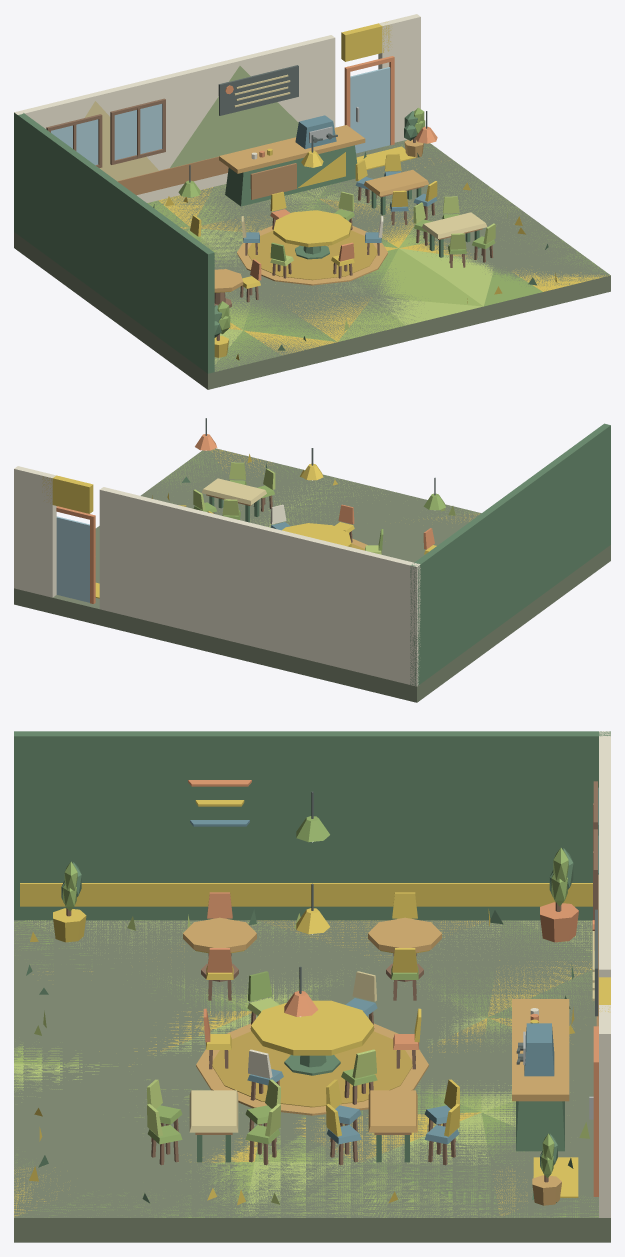
The model's file is echo_world_cafe_reference-lowpoly-v2.glb.
3 views of the same model, one above another, from view 1: azimuth 30°, elevation 25°; view 2: azimuth 150°, elevation 25°; view 3: azimuth 270°, elevation 25° (orthographic). The views are drawn at different scales.
Parts seen in each view (by area): view 1: ARCH_CafeDioramaBase, ARCH_LeftWall, GROUND_CafeFloor, ARCH_BackWall_Left, DECOR_BackFacet_02, ARCH_BackWall_Right, DECOR_CentralIslandInset, GEO_Entrance_Door, GEO_CoffeeBar_Top, GEO_CoffeeBar_Base, GEO_TABLE_Central6_Top, GEO_MenuBoard (+13 smaller); view 2: ARCH_BackWall_Left, ARCH_LeftWall, ARCH_CafeDioramaBase, ARCH_BackWall_Right, GEO_Entrance_Door, ARCH_EntranceHeader, GROUND_CafeFloor, GEO_TABLE_4_02_Top, GEO_TABLE_Central6_Top, GEO_Entrance_Frame_L; view 3: ARCH_CafeDioramaBase, ARCH_LeftWall, GROUND_CafeFloor, ARCH_LeftMustardBand, DECOR_CentralIslandInset, GEO_TABLE_Central6_Top, GEO_CoffeeBar_Top, ARCH_BackWall_Left, ARCH_BackWall_Right, DECOR_CentralWoodIsland, GEO_CoffeeBar_Base, GEO_TABLE_4_02_Top (+11 smaller).
Part boxes in pixels (x1,y1,x2,y2): ARCH_CafeDioramaBase: (14,139,610,389); ARCH_LeftWall: (14,112,214,373); GROUND_CafeFloor: (147,140,609,371); ARCH_BackWall_Left: (14,35,335,202); DECOR_BackFacet_02: (170,66,298,168); ARCH_BackWall_Right: (378,14,420,142); DECOR_CentralIslandInset: (247,230,377,280); GEO_Entrance_Door: (350,67,390,153); GEO_CoffeeBar_Top: (219,125,365,173); GEO_CoffeeBar_Base: (225,145,357,206); GEO_TABLE_Central6_Top: (273,210,351,247); GEO_MenuBoard: (218,65,298,115); ARCH_BackWall_Left: (99,487,420,686); ARCH_LeftWall: (410,423,610,685); ARCH_CafeDioramaBase: (14,448,610,702); ARCH_BackWall_Right: (14,466,56,597); GEO_Entrance_Door: (56,516,89,602); ARCH_EntranceHeader: (42,475,93,513); GROUND_CafeFloor: (153,448,479,527); GEO_TABLE_4_02_Top: (201,478,266,504); GEO_TABLE_Central6_Top: (282,523,351,546); GEO_Entrance_Frame_L: (90,516,95,603); ARCH_CafeDioramaBase: (14,920,610,1242); ARCH_LeftWall: (14,731,610,920); GROUND_CafeFloor: (14,920,598,1217); ARCH_LeftMustardBand: (20,883,592,906); DECOR_CentralIslandInset: (212,1031,412,1107); GEO_TABLE_Central6_Top: (251,1000,373,1055); GEO_CoffeeBar_Top: (512,999,569,1101); ARCH_BackWall_Left: (599,731,610,977); ARCH_BackWall_Right: (599,1005,610,1217); DECOR_CentralWoodIsland: (196,1023,428,1115); GEO_CoffeeBar_Base: (516,1101,564,1151); GEO_TABLE_4_02_Top: (189,1090,238,1132).
Size of the model in its own units: 12 by 3.86 by 10.
